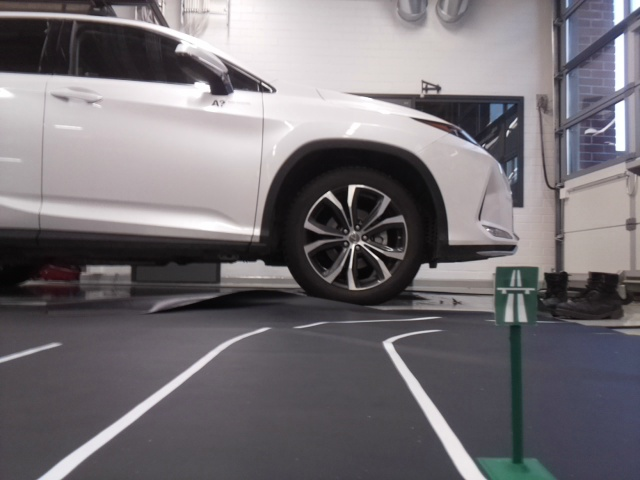HighwayEntrance: (495, 267, 535, 322)
